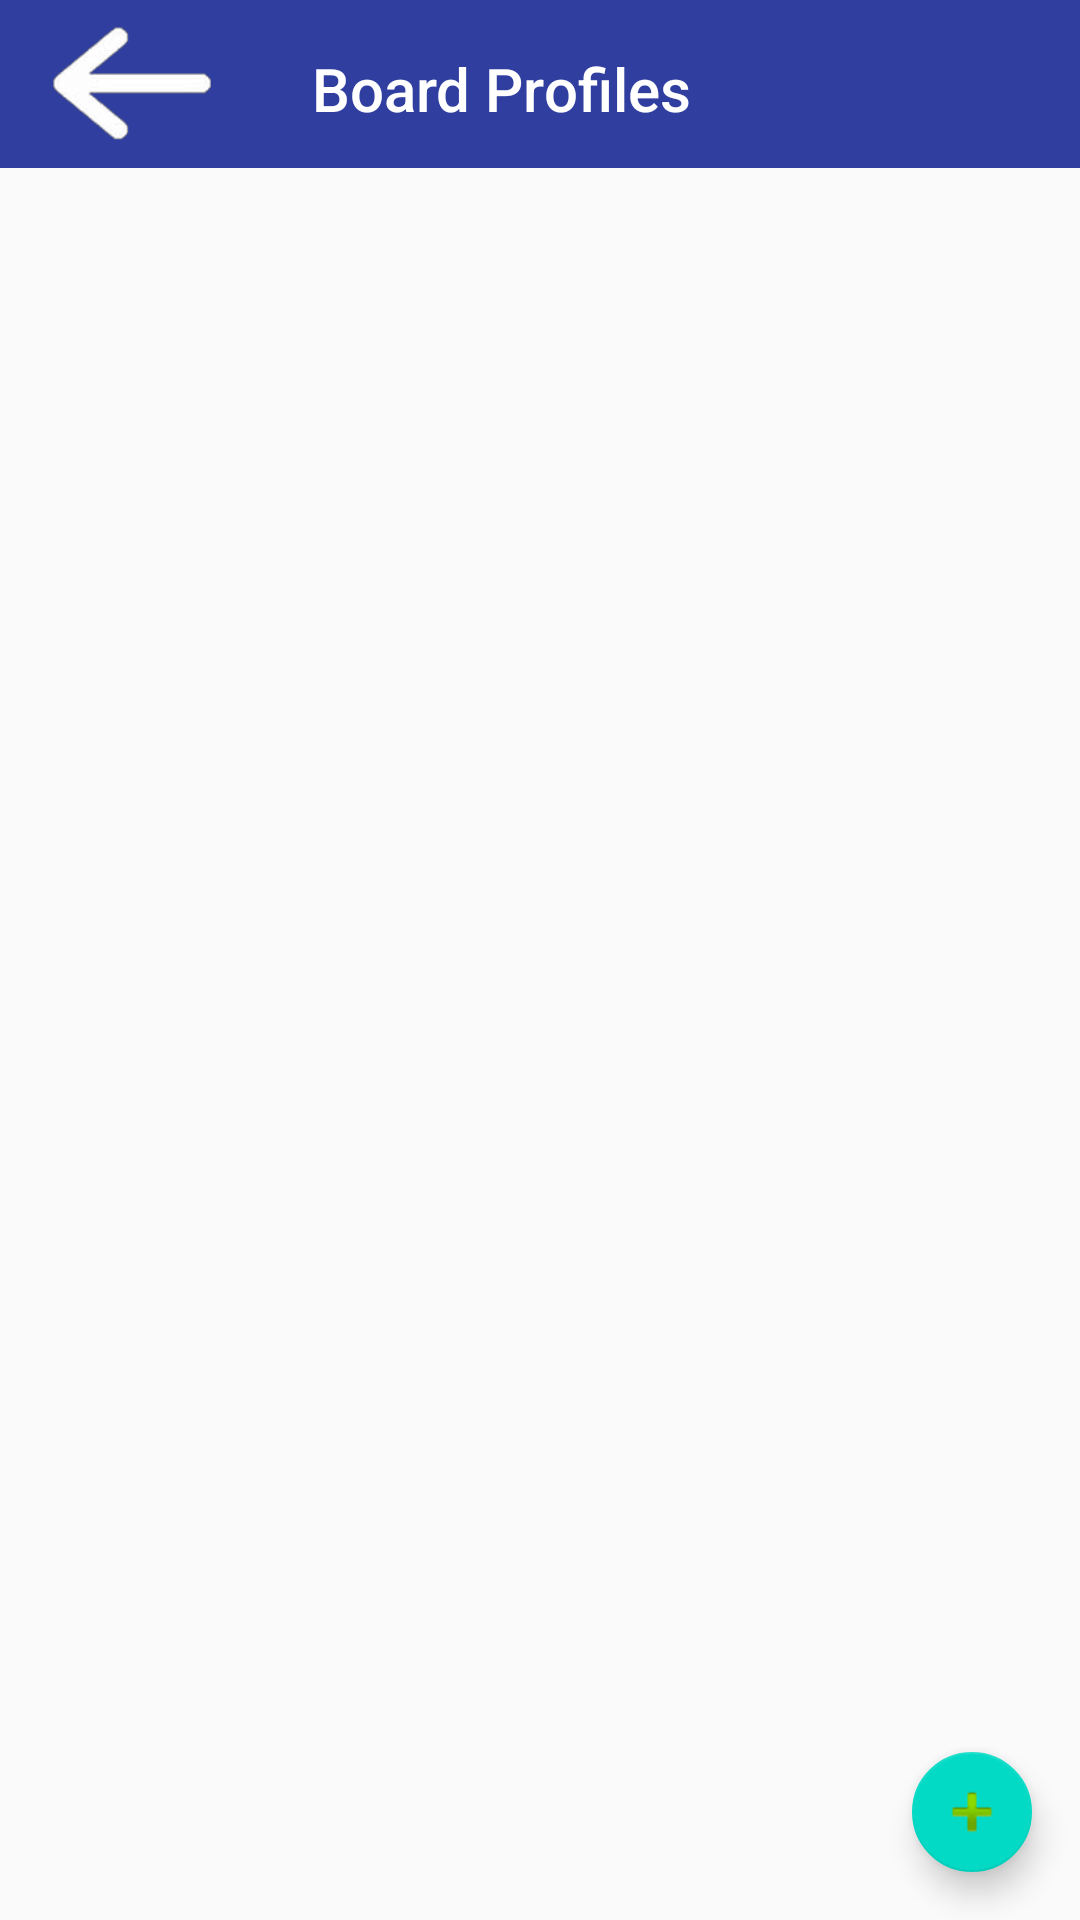

Named icons in this screenshot (1080x1920) and their bounding boxes, (x1, y1, x2, y2):
add: (912, 1752, 1032, 1872)
back: (53, 27, 211, 140)
